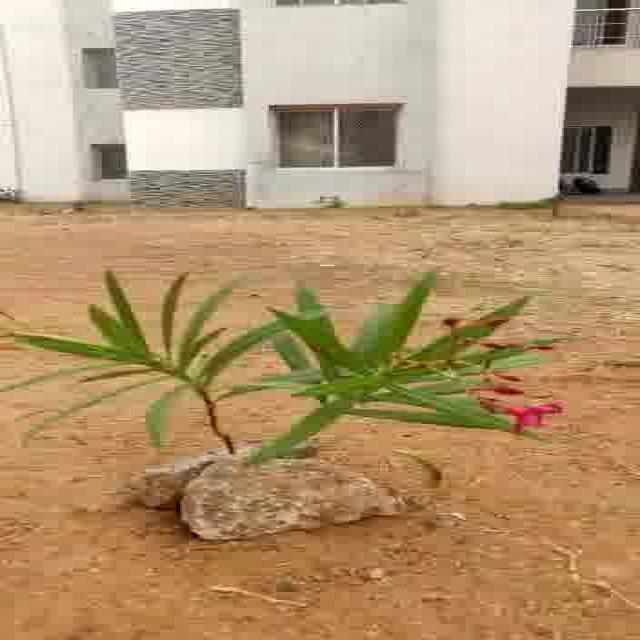Oleander: (17, 279, 569, 451)
